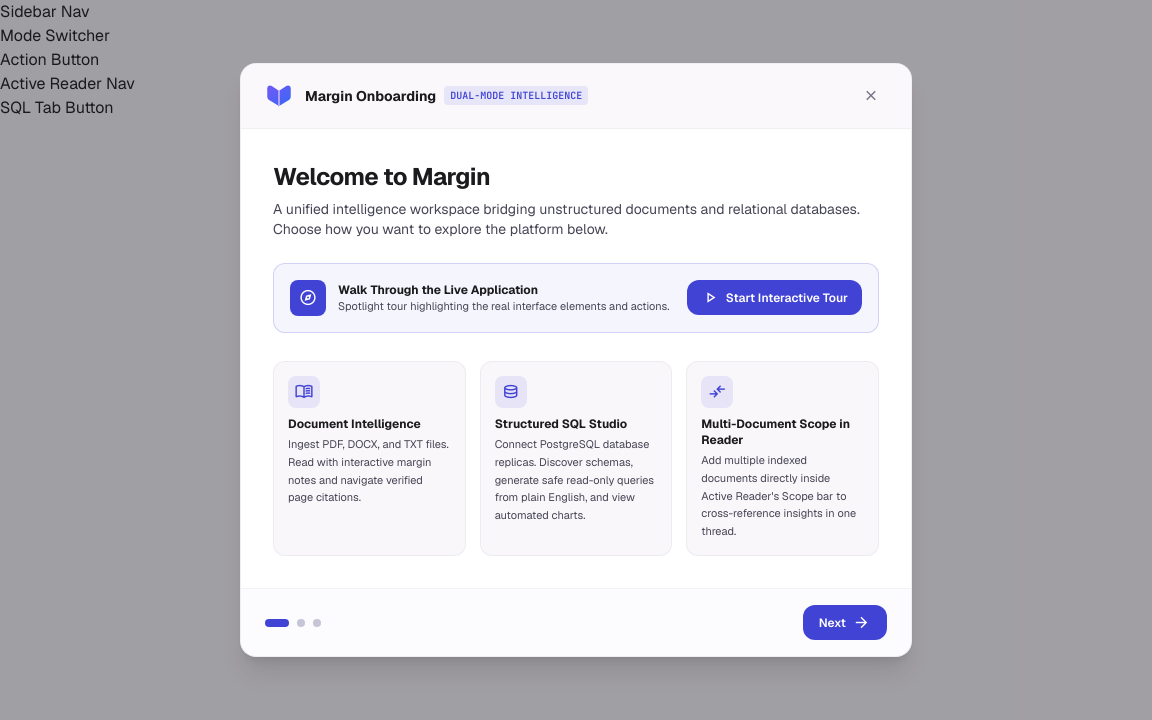
Test: Onboarding Workflows › allows user to trigger Add Connection directly from the SQL slide of the onboarding guide modal
Later steps or results of the test are not shown.
Note: Navigate to slide 3 (SQL Studio)
Click the text "Next" at point(832, 623), box [819, 615, 846, 631]
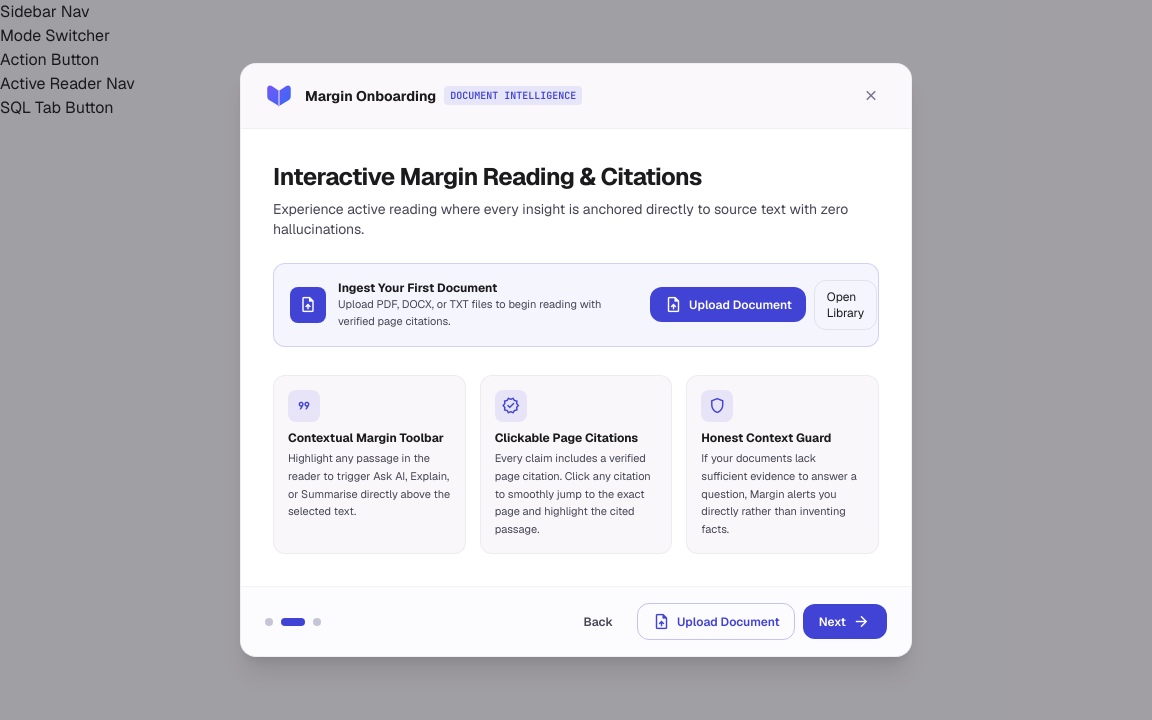
Click the text "Next" at point(832, 622), box [819, 614, 846, 630]
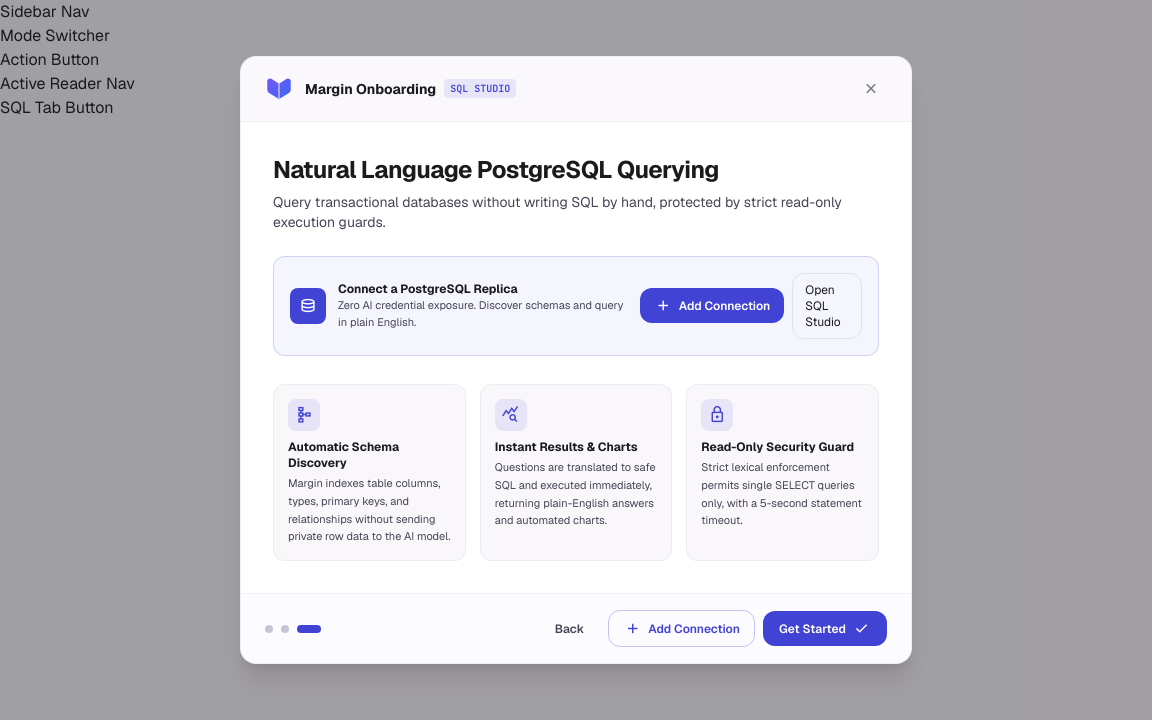
Result: the heading "Natural Language PostgreSQL Querying" is shown at [273, 154, 719, 185]
Result: the button "Add Connection" next to "Open SQL Studio" is shown at [640, 288, 784, 323]
